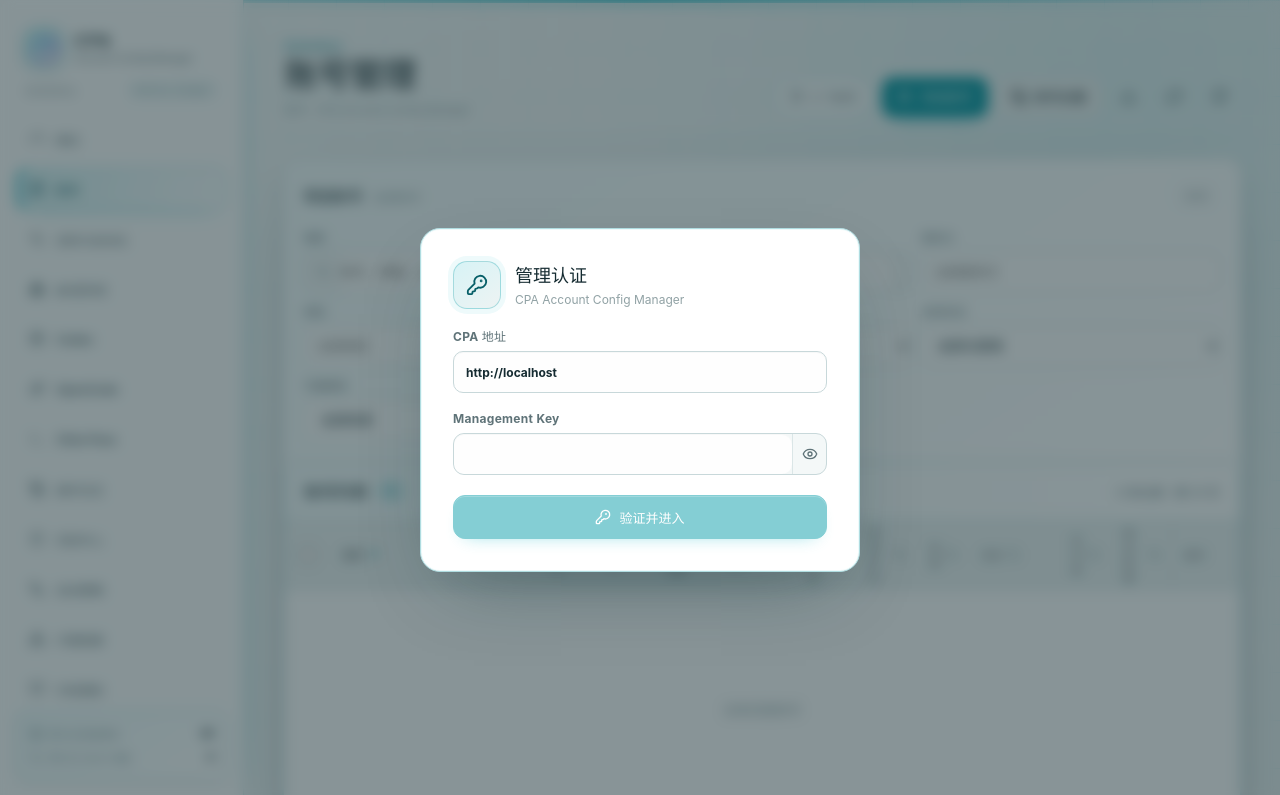
Test case: primary account batch flow › keeps synchronizing account state after the inspection workspace unmounts
The width and height of the screenshot is (1280, 795).
Type "management-secret" into the password field labelled "Management Key" at [623, 454], box [454,434,792,474]
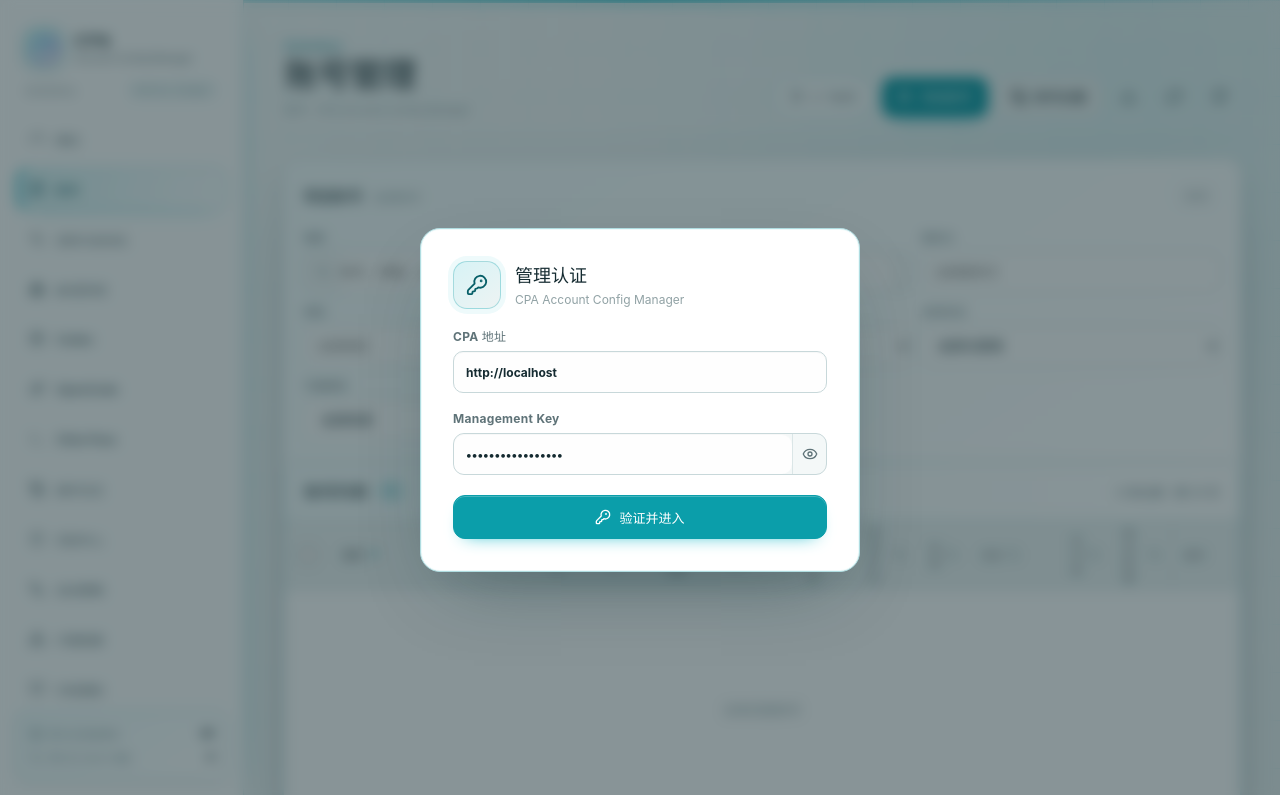
Click the button "验证并进入" at [640, 517], box [453,495,827,539]
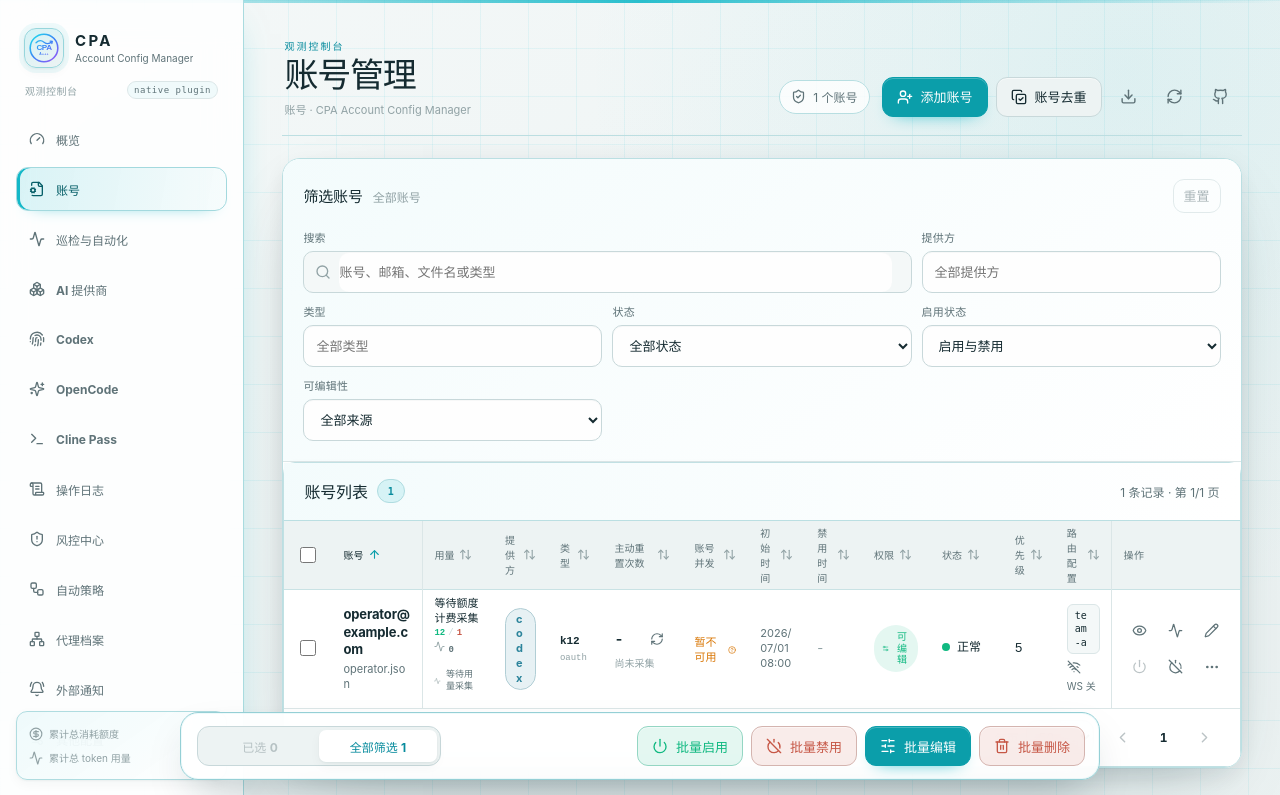
Expected: the text "operator@example.com" is shown, [343,606,410,659]
Click the button "巡检与自动化" at [122, 239], box [16,217,227,261]
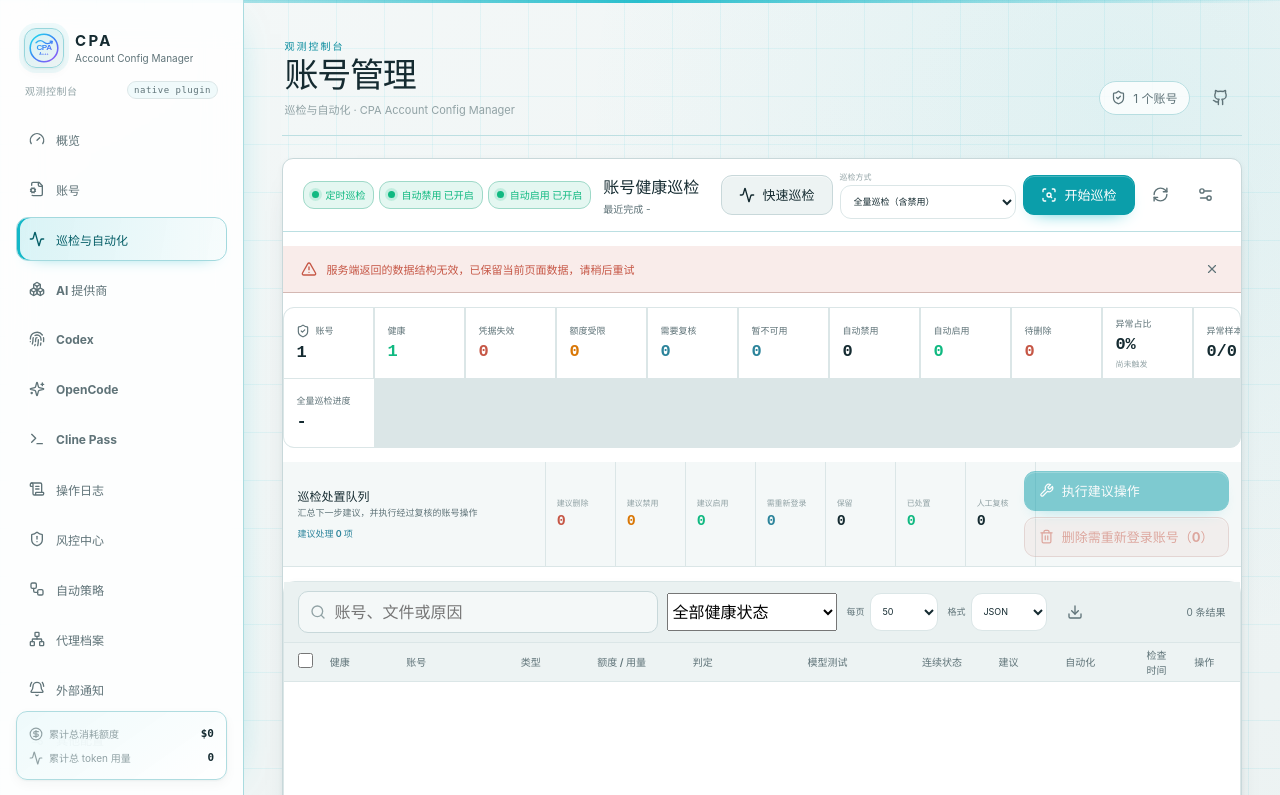
Click the button "开始巡检" at [1079, 195], box [1023,175,1135,215]
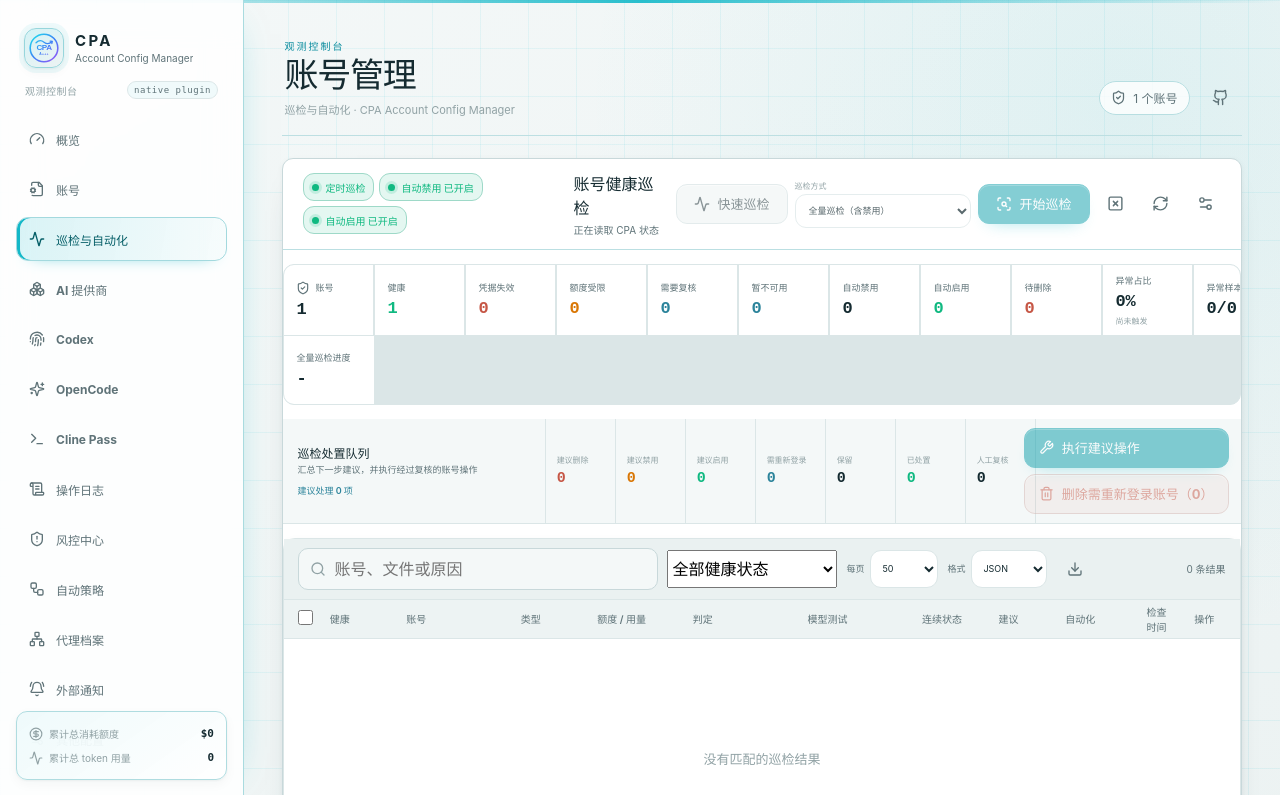
Click the button "账号" at [122, 189], box [16,167,227,211]
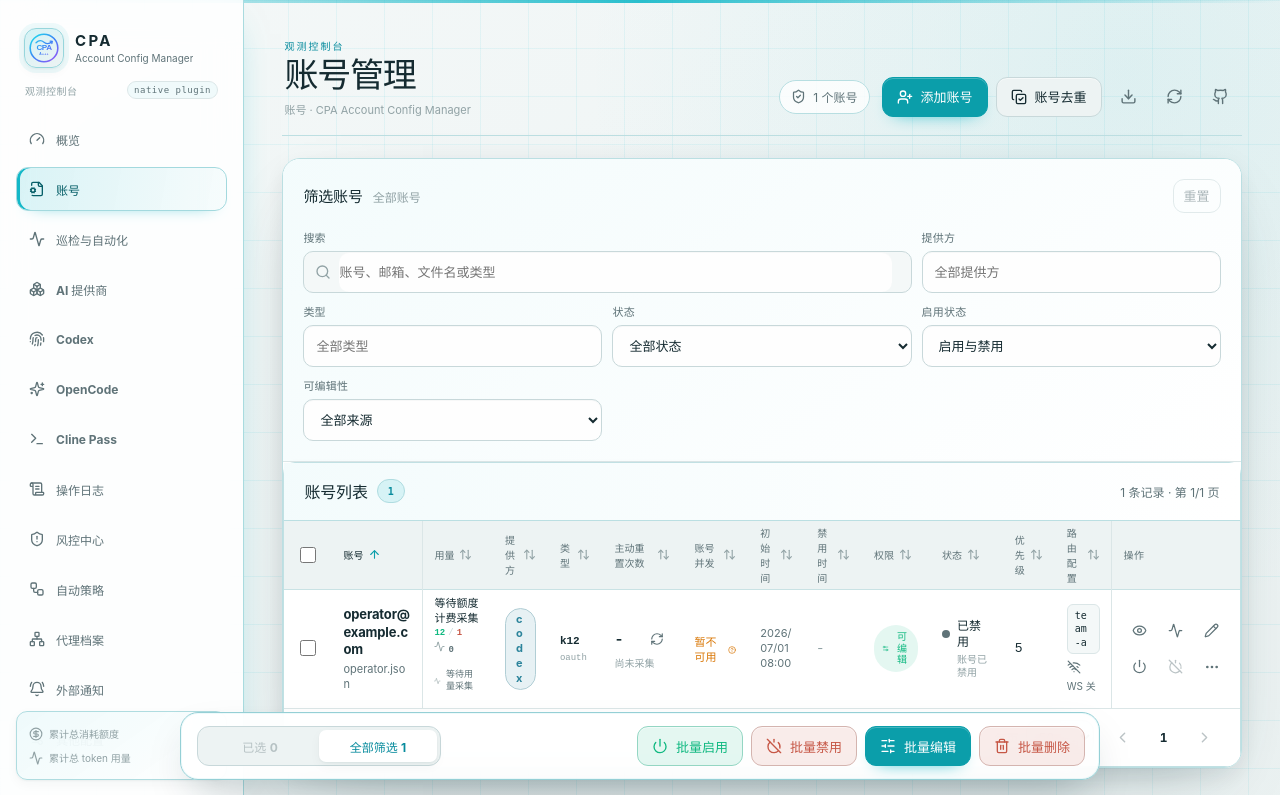
Expected: the text "账号已禁用" is shown, [957,653,991,680]
